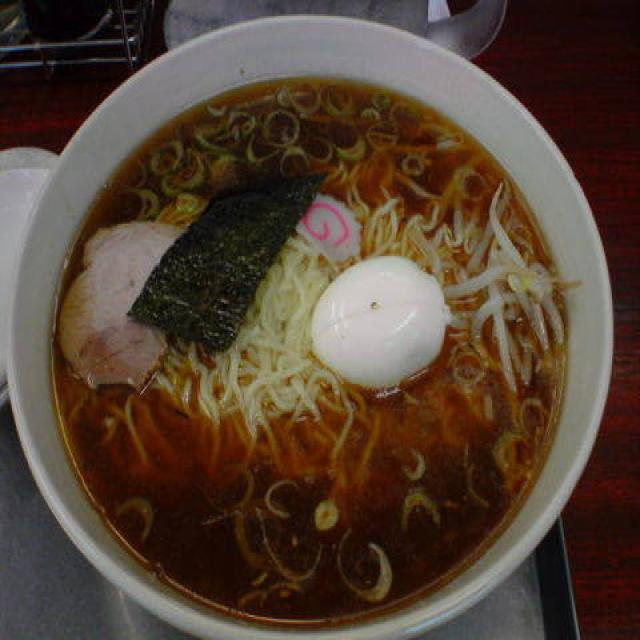面条主食: (1, 12, 620, 640)
